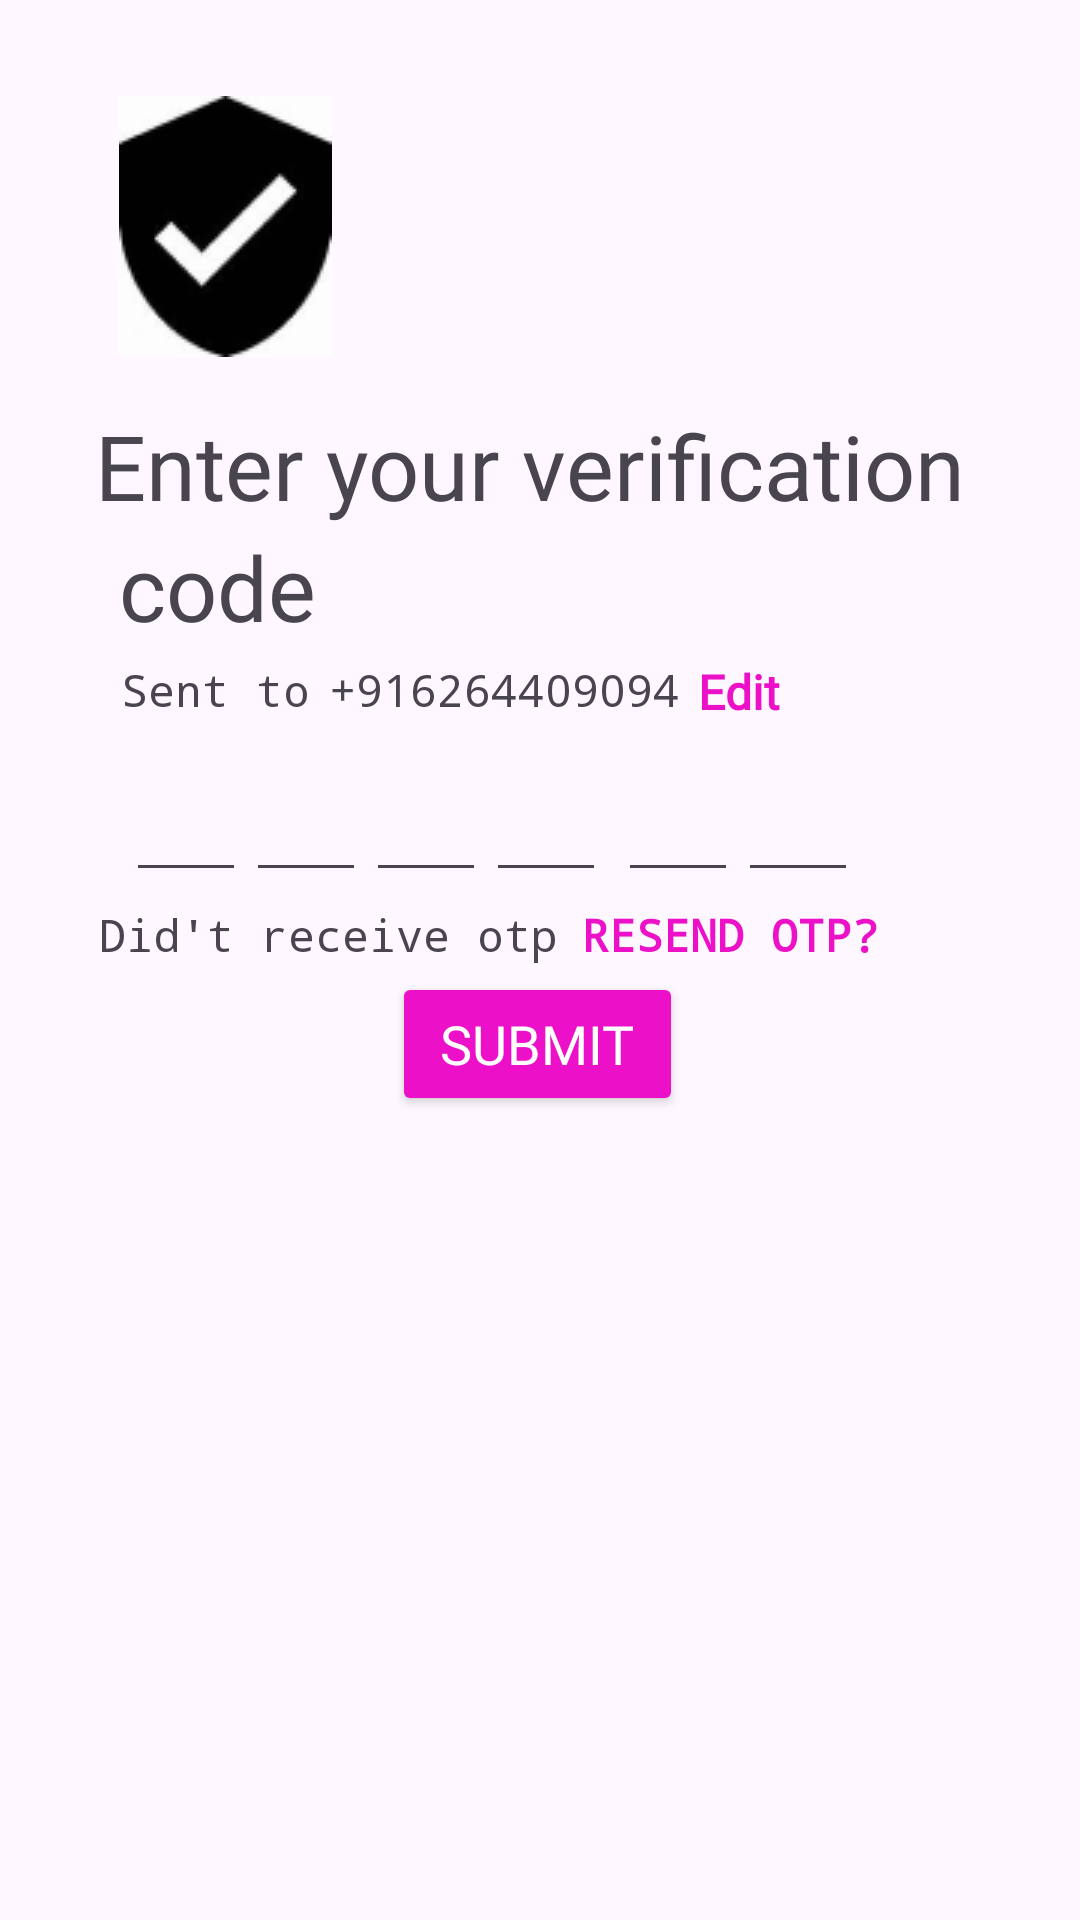

Named icons in this screenshot (1080x1920) and their bounding boxes, box(x1, y1, x2, y2):
verificationicon: box(119, 96, 332, 357)
